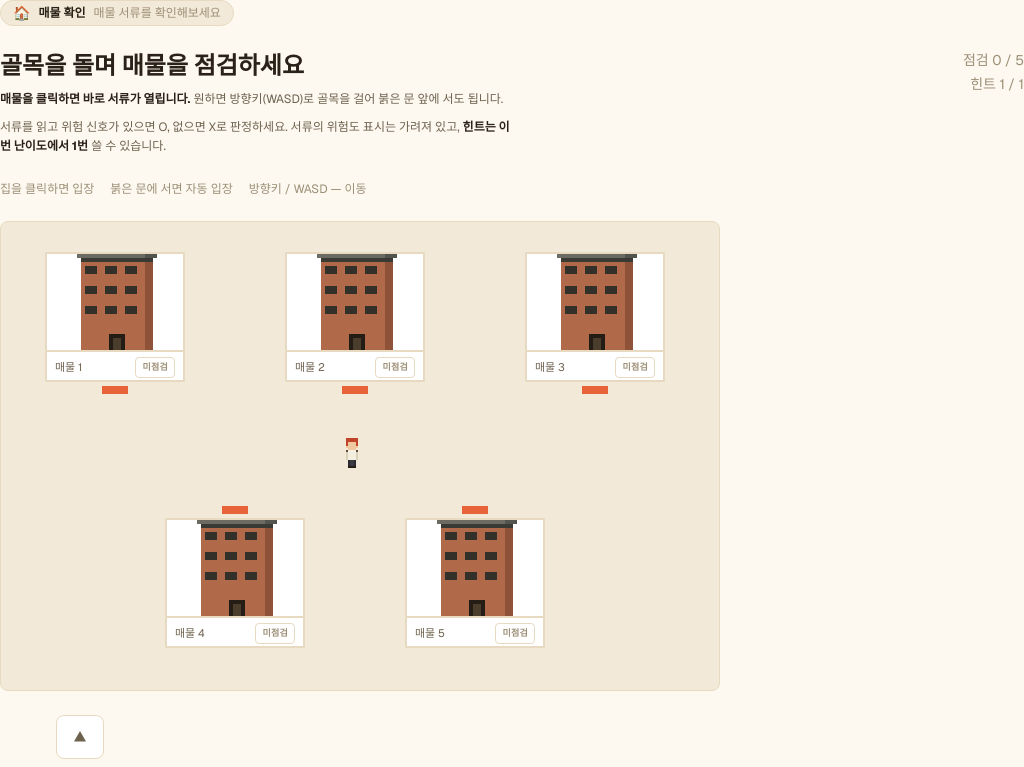
MapBoard › 매물을 클릭하면 점검 패널이 열린다
Click the button "매물 1 미점검" at (115, 316), box [45,252,185,382]
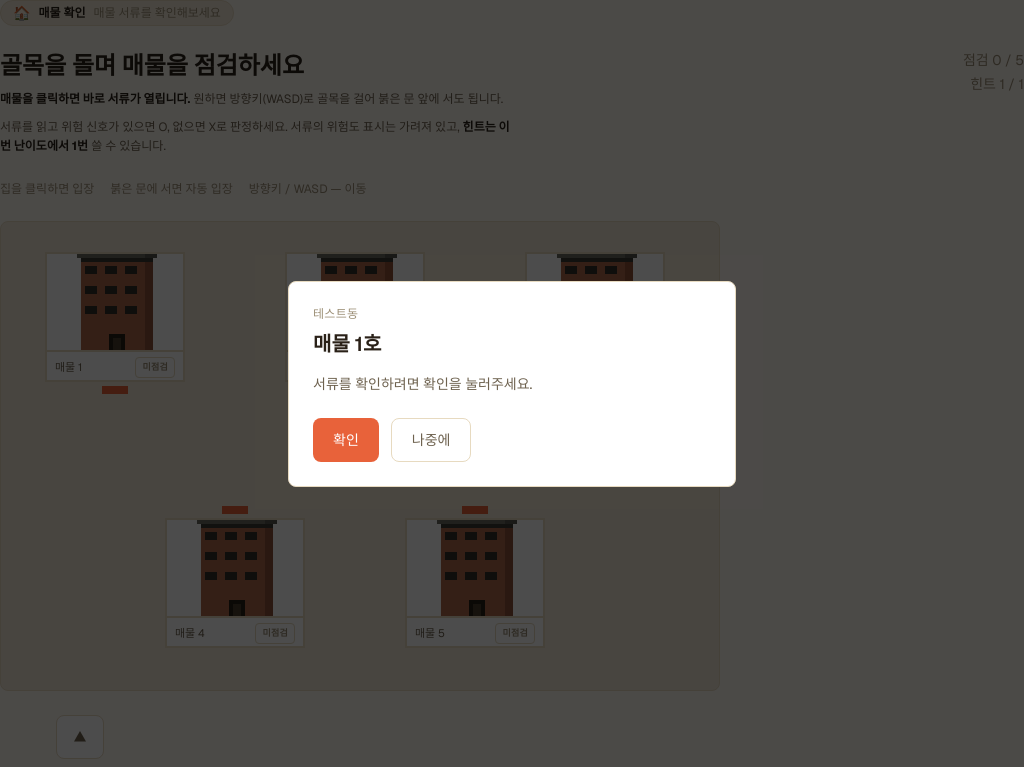
Result: the button "확인" is shown at [313,418,379,462]
